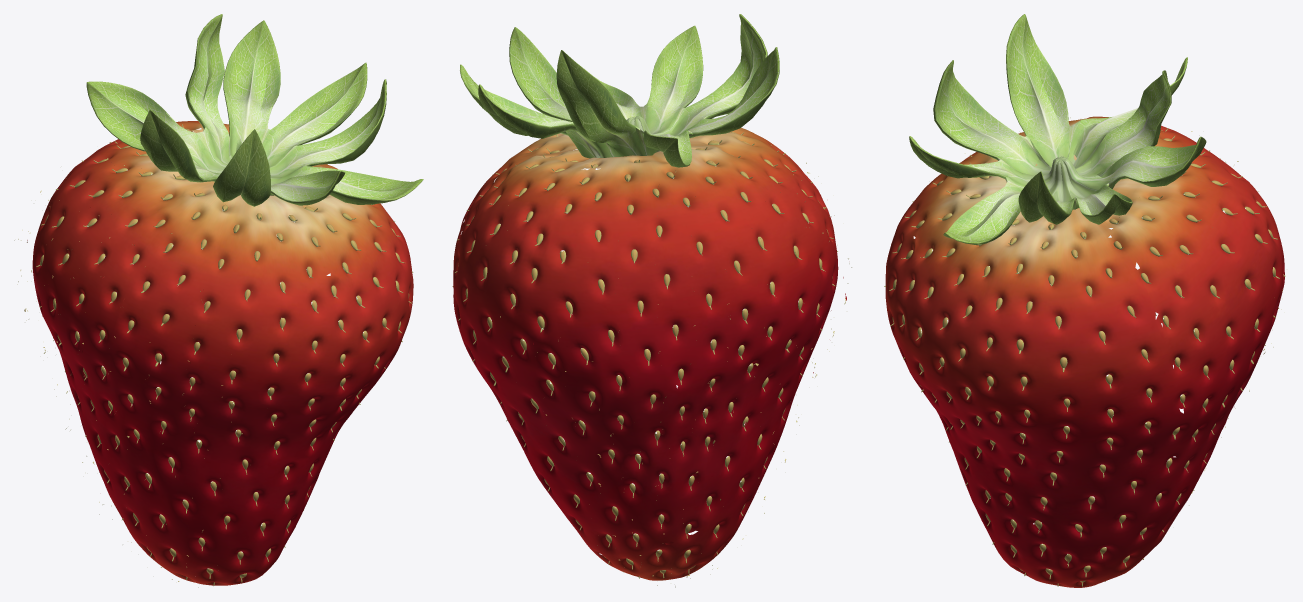
The picture shows the model from 3 angles, left to right: view 1: azimuth 30°, elevation 25°; view 2: azimuth 150°, elevation 25°; view 3: azimuth 270°, elevation 25°; orthographic projection. The views are drawn at different scales.
Visible parts, largest first — view 1: Object_6; view 2: Object_6; view 3: Object_6.
Boxes of the visible parts, x1,y1,x2,y2 form: Object_6: [32, 14, 423, 585]; Object_6: [452, 14, 838, 580]; Object_6: [884, 14, 1285, 587].
Bounding box in the file's own units: 1.01 × 1.47 × 1.01.
1 material, 1 textured.
